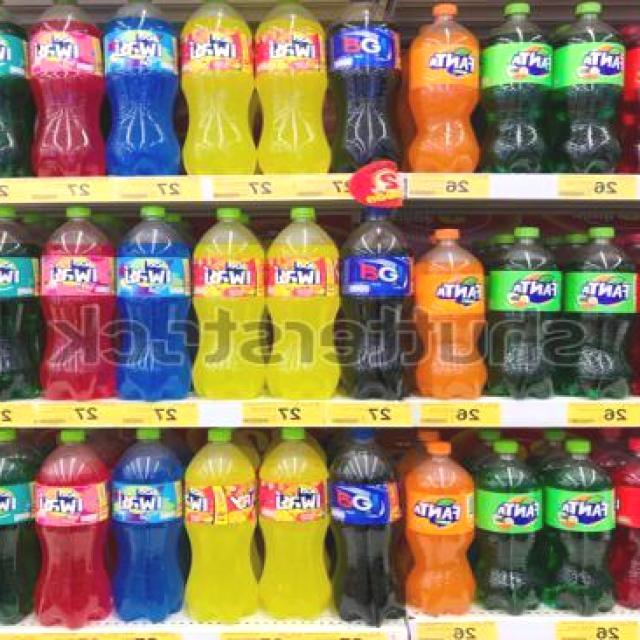Drinks: (488, 228, 563, 400), (479, 2, 554, 172), (553, 1, 627, 172), (414, 228, 486, 402), (404, 442, 476, 616), (407, 3, 480, 174), (544, 439, 614, 616), (474, 439, 544, 616), (566, 226, 636, 400), (616, 435, 640, 611), (626, 3, 640, 174)
